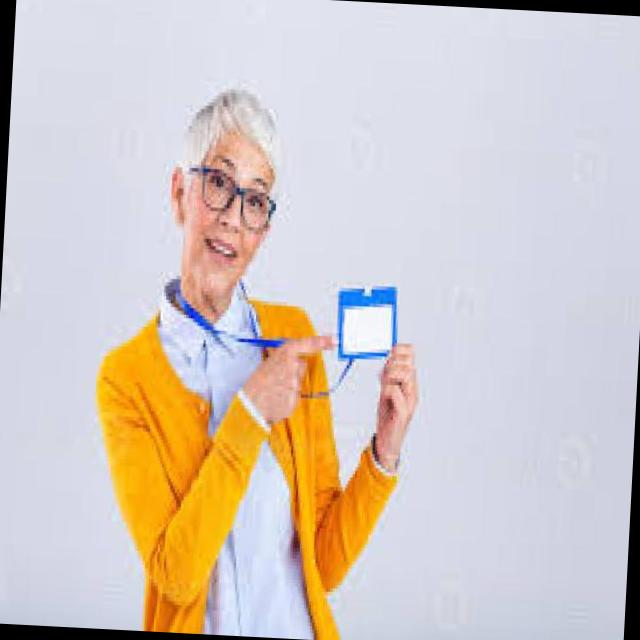id_card: (180, 266, 398, 368)
